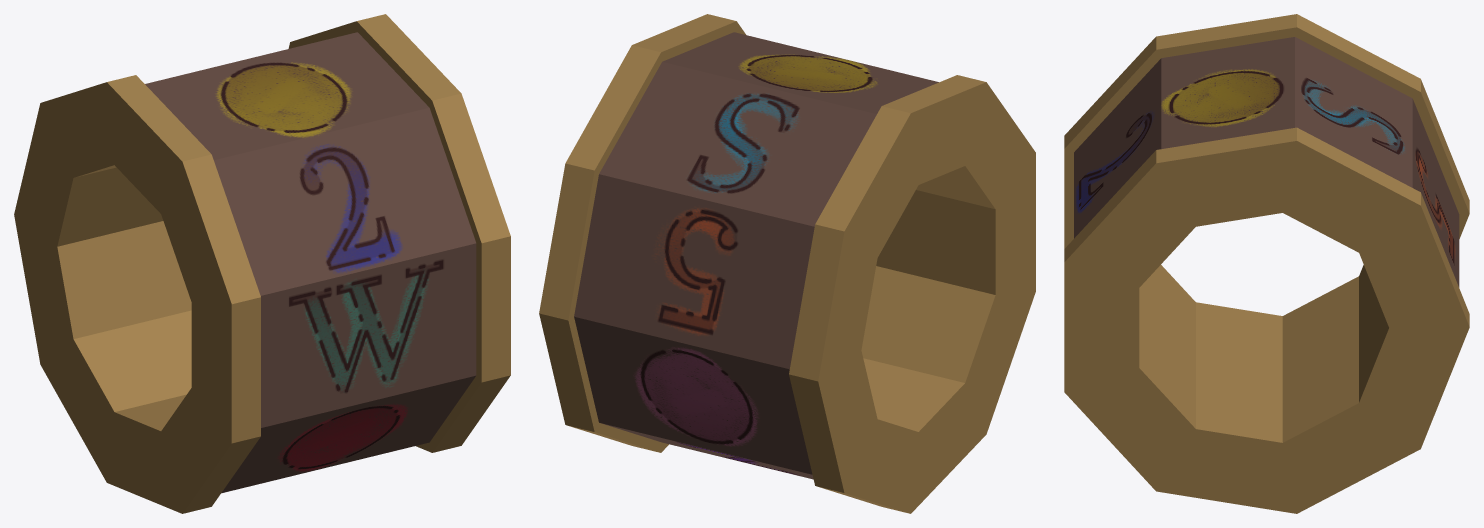
File: Criptex Slot 1.fbx
3 views of the same model, side by side, from view 1: azimuth 30°, elevation 25°; view 2: azimuth 150°, elevation 25°; view 3: azimuth 270°, elevation 25° (orthographic). The views are drawn at different scales.
Parts seen in each view (by area): view 1: Slot Middle; view 2: Slot Middle; view 3: Slot Middle.
Boxes of the visible parts, bbox=[...] form: Slot Middle: bbox=[14, 14, 510, 513]; Slot Middle: bbox=[539, 14, 1035, 513]; Slot Middle: bbox=[1064, 14, 1469, 513].
Size of the model in its own units: 13.09 by 17.96 by 17.68.
2 materials, 1 textured.
